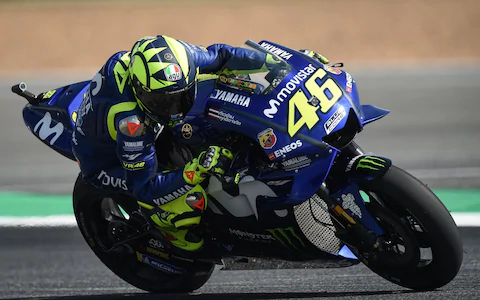helmet: (122, 28, 198, 127)
